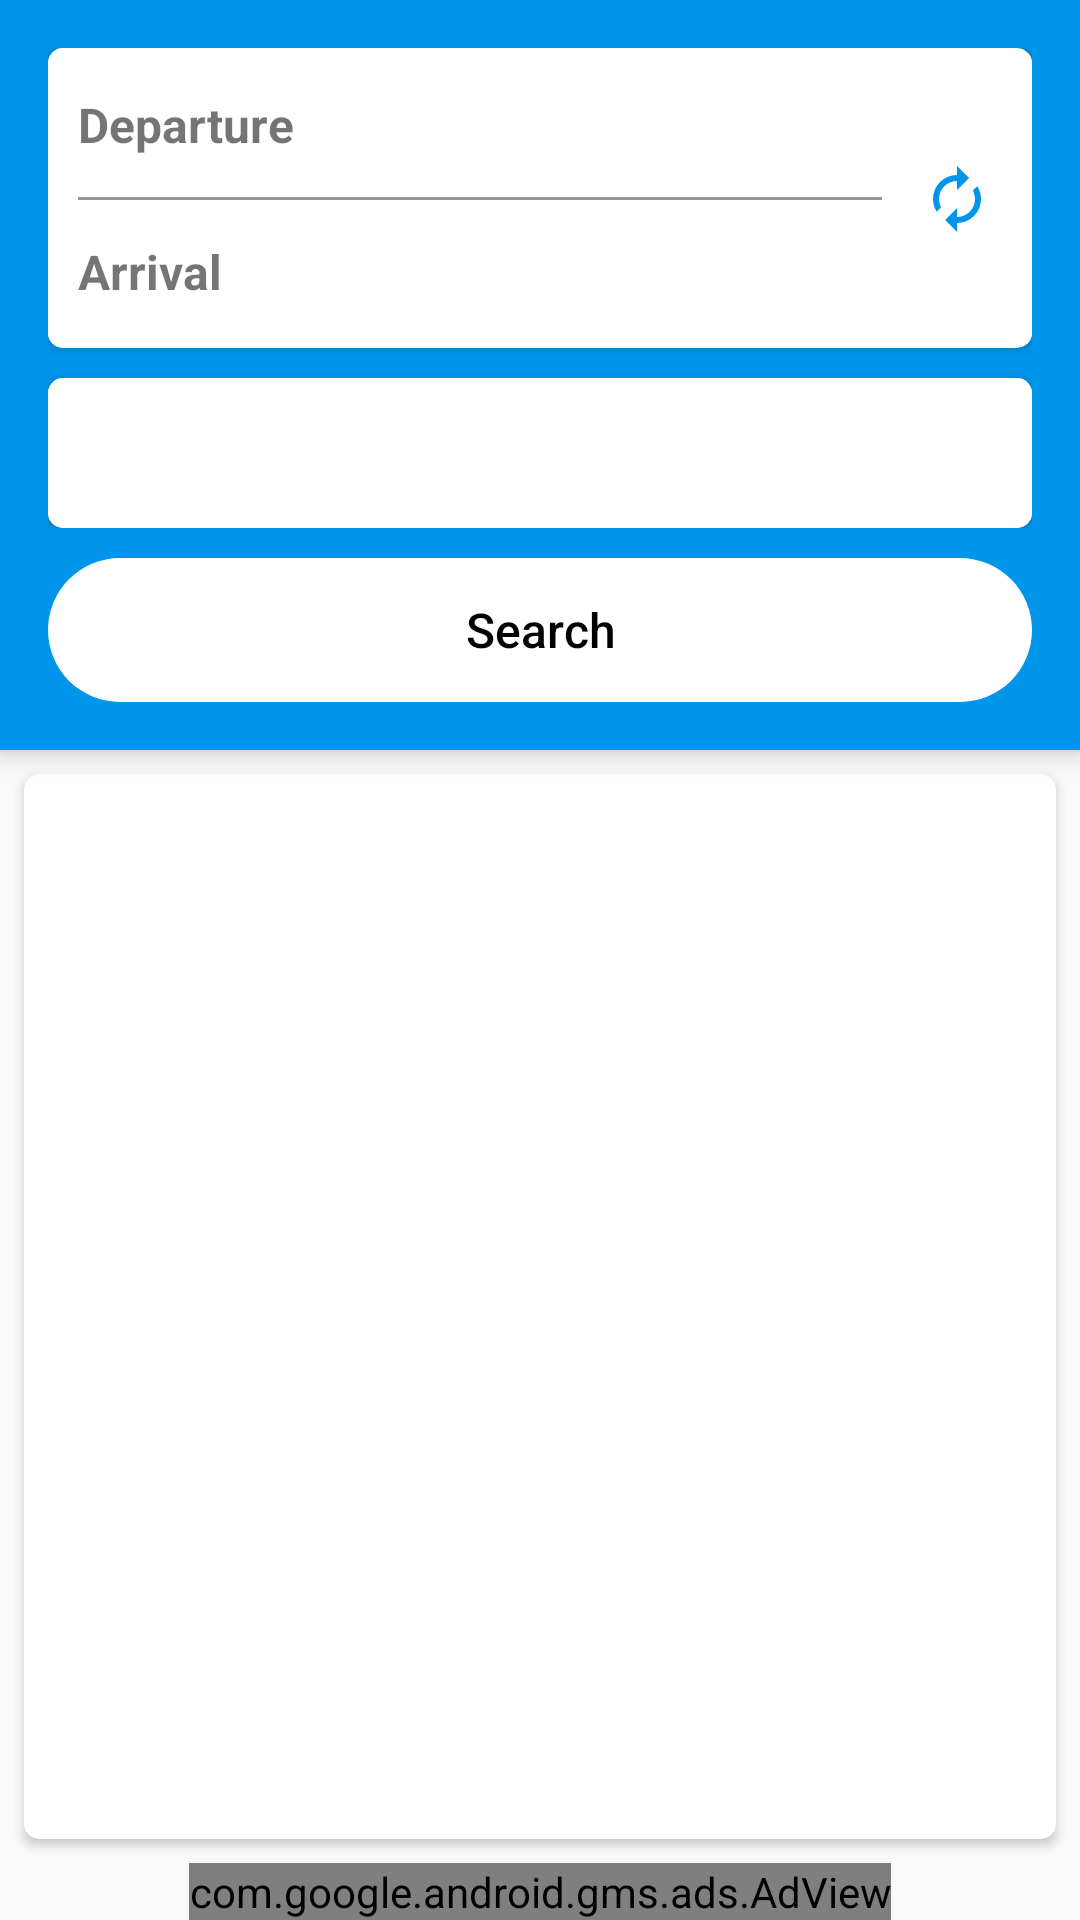

Screen size 1080px×1920px. Icon name, then its box in pixels as (x1, y1, x2, y2):
change: (933, 166, 981, 232)
